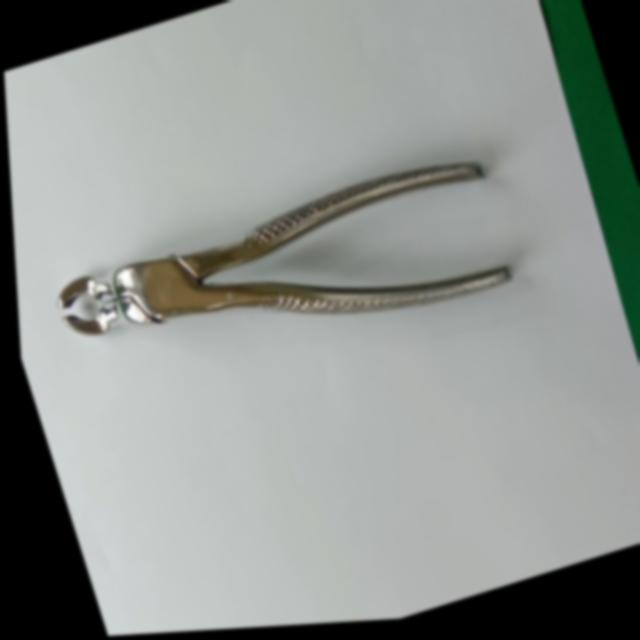BayonetForcep: (35, 131, 531, 424)
